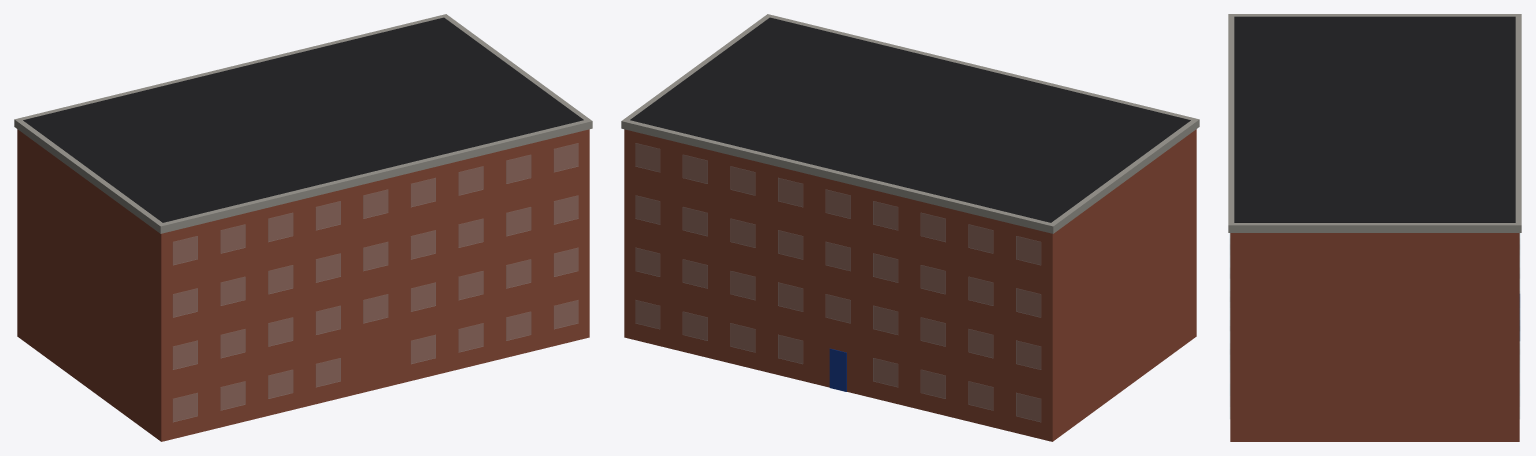
Rendered from context.flats_4.glb.
3 views of the same model, side by side, from view 1: azimuth 30°, elevation 25°; view 2: azimuth 150°, elevation 25°; view 3: azimuth 270°, elevation 25° (orthographic).
Visible parts, largest first — view 1: walls__brick, roof__roof_felt, openings__glass, roof__concrete; view 2: walls__brick, roof__roof_felt, openings__glass, roof__concrete, openings__plastic_blue; view 3: walls__brick, roof__roof_felt, roof__concrete, openings__glass.
Boxes of the visible parts, <box> form: walls__brick: <box>17,129,589,441</box>; roof__roof_felt: <box>23,17,583,222</box>; openings__glass: <box>173,143,578,421</box>; roof__concrete: <box>14,14,592,233</box>; walls__brick: <box>624,129,1196,441</box>; roof__roof_felt: <box>630,17,1190,222</box>; openings__glass: <box>635,143,1040,421</box>; roof__concrete: <box>621,14,1199,233</box>; openings__plastic_blue: <box>829,348,846,391</box>; walls__brick: <box>1230,233,1519,441</box>; roof__roof_felt: <box>1234,16,1515,222</box>; roof__concrete: <box>1228,14,1521,232</box>; openings__glass: <box>1229,233,1520,395</box>.
Bounding box in the file's own units: 24.2 × 11.61 × 14.2.
